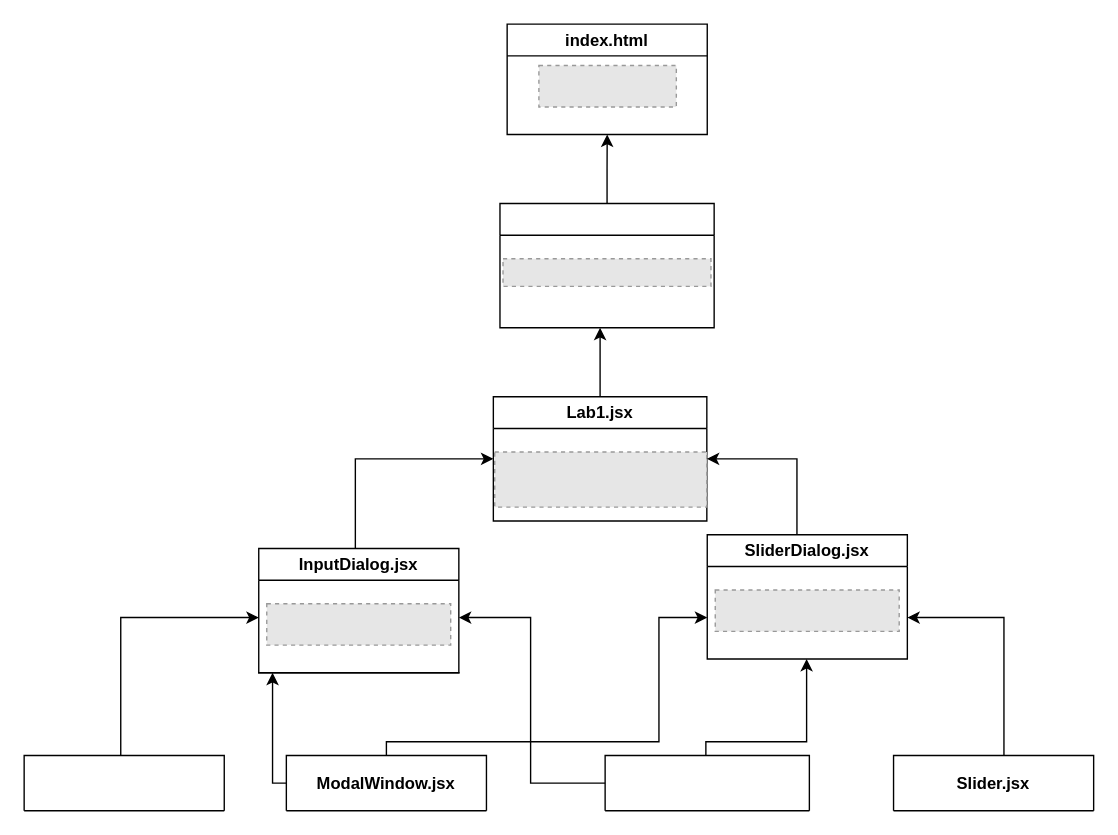
Image size: 1118x835. Some labels were removed from this diagram. Grey dashed boxes stand in for pictures. Here are the shapes that lost their labels. From the top down, the box of each, then its label:
(499, 202, 714, 328): main.jsx
(23, 754, 224, 811): Input.jsx
(604, 754, 809, 811): Button.jsx
